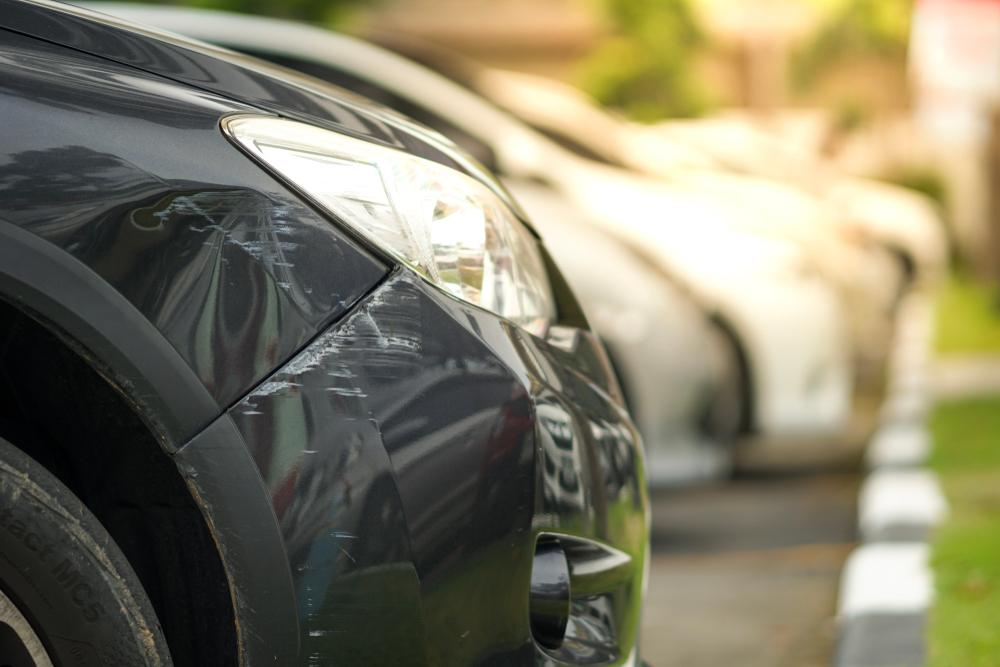dent: (64, 184, 266, 387)
scratch: (235, 266, 427, 420), (254, 193, 324, 292), (299, 561, 334, 657)
